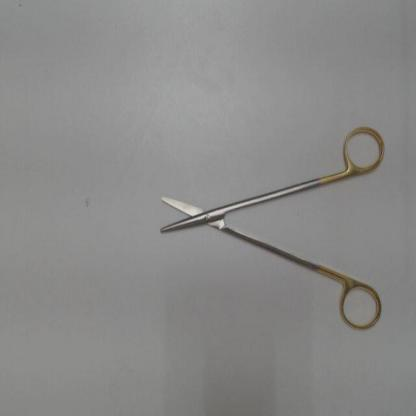7 Metzenbaum Scissors: (155, 120, 389, 338)
